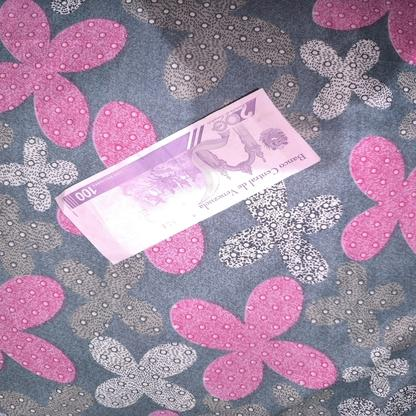one_hundred-back-vef: (54, 86, 321, 264)
